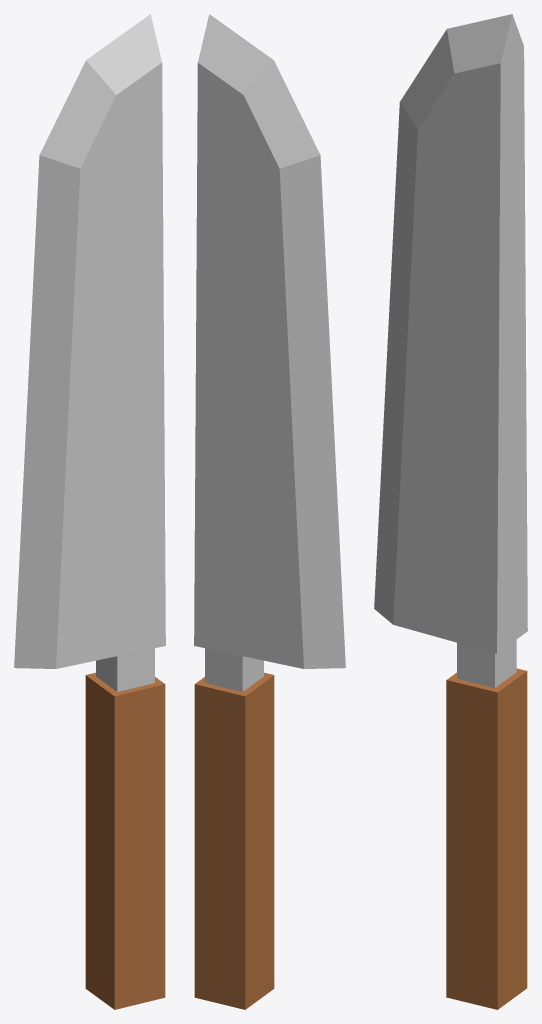
File: kitchenKnife2_PLY.fbx
3 views of the same model, side by side, from view 1: azimuth 30°, elevation 25°; view 2: azimuth 150°, elevation 25°; view 3: azimuth 330°, elevation 25° (orthographic).
Parts seen in each view (by area): view 1: kitchenKnife2_PLY; view 2: kitchenKnife2_PLY; view 3: kitchenKnife2_PLY.
Part boxes in pixels (x1,y1,x2,y2): kitchenKnife2_PLY: (14,14,165,1009); kitchenKnife2_PLY: (194,14,345,1009); kitchenKnife2_PLY: (374,14,527,1009).
Bounding box in the file's own units: 0.2009 × 1.37 × 0.0776.
